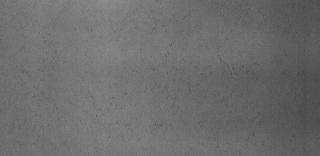silk spot: (64, 11, 250, 131)
